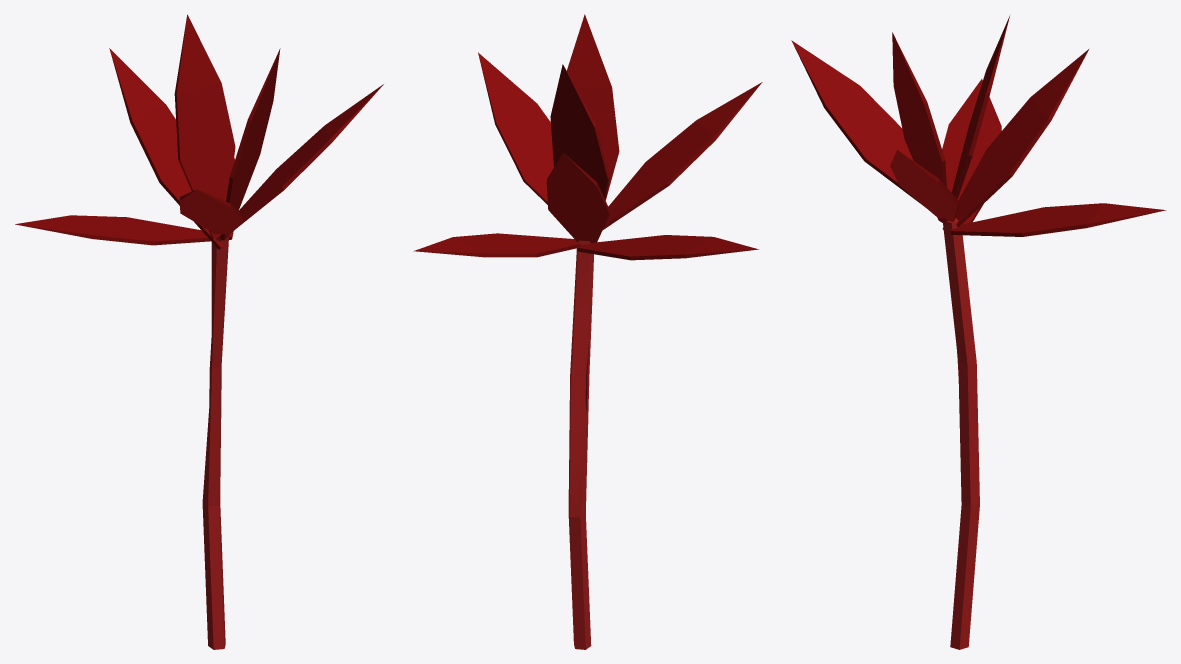
The model's file is Plant_e_03.fbx.
3 renders of one model, left to right at view 1: azimuth 30°, elevation 25°; view 2: azimuth 150°, elevation 25°; view 3: azimuth 270°, elevation 25°, orthographic. The views are drawn at different scales.
Visible parts, largest first — view 1: Plant_e_03_LOD0; view 2: Plant_e_03_LOD0; view 3: Plant_e_03_LOD0.
Part boxes in pixels (bbox=[...]): Plant_e_03_LOD0: bbox=[15, 14, 383, 649]; Plant_e_03_LOD0: bbox=[413, 14, 762, 649]; Plant_e_03_LOD0: bbox=[791, 16, 1166, 649].
Size of what is drawn, in the model's own units: 8.72 by 15.58 by 8.43.
